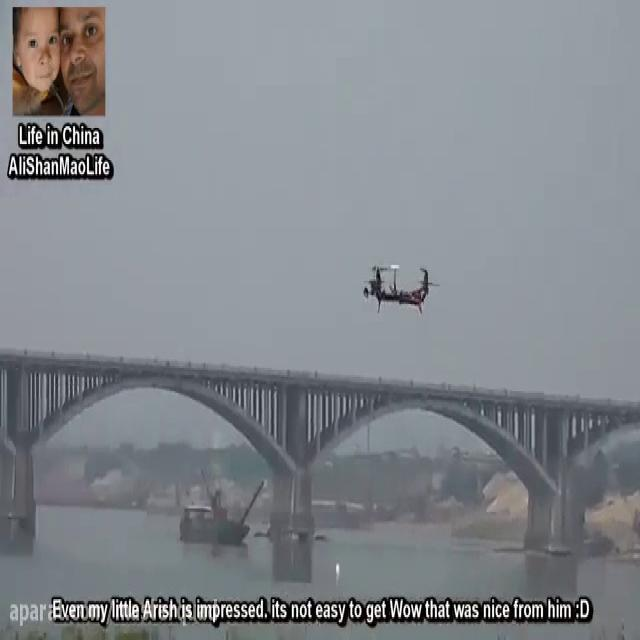drone: (360, 256, 440, 315)
